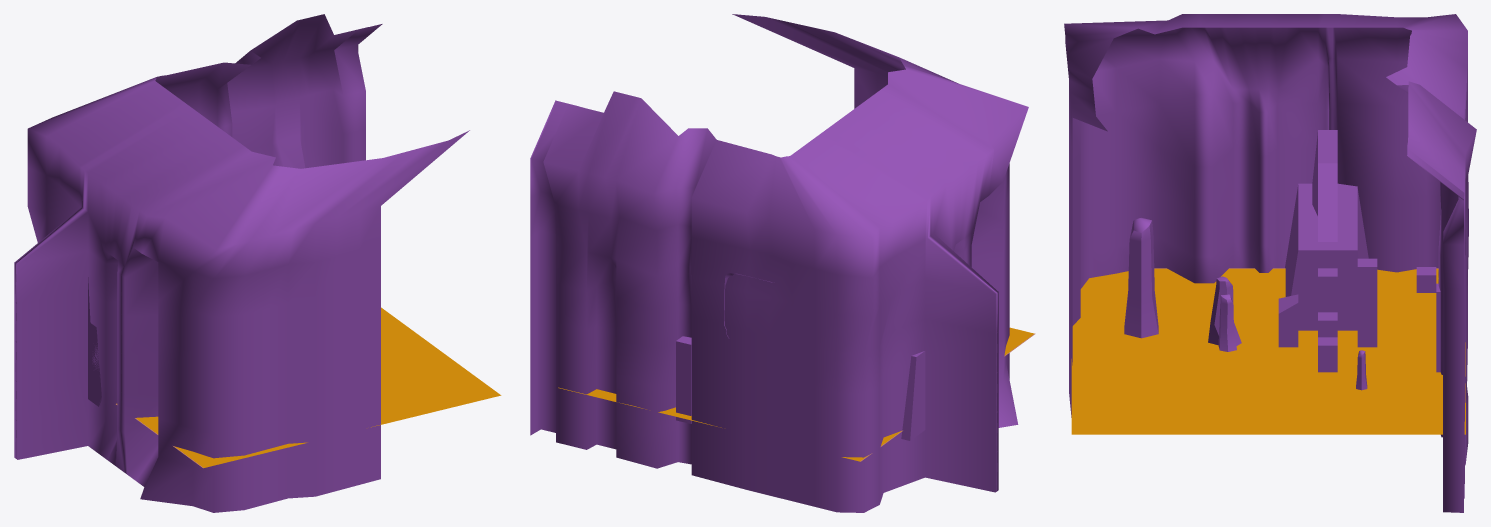
File: lava_cave_environment.fbx
3 renders of one model, left to right at view 1: azimuth 30°, elevation 25°; view 2: azimuth 150°, elevation 25°; view 3: azimuth 270°, elevation 25°, orthographic. The views are drawn at different scales.
Parts seen in each view (by area): view 1: cave, lake; view 2: cave, lake; view 3: cave, lake.
Boxes of the visible parts, x1=… form: cave: x1=14, y1=14, x2=469, y2=512; lake: x1=116, y1=307, x2=501, y2=468; cave: x1=530, y1=14, x2=1028, y2=512; lake: x1=558, y1=327, x2=1035, y2=461; cave: x1=1064, y1=14, x2=1476, y2=512; lake: x1=1071, y1=268, x2=1465, y2=434.
Size of the model in its own units: 2688 by 2151 by 2095.
2 materials, 2 textured.
